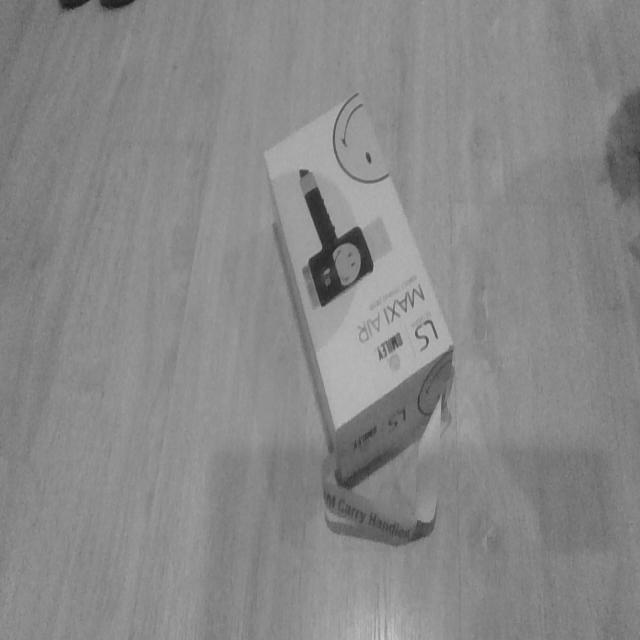Dryer: (261, 88, 457, 548)
